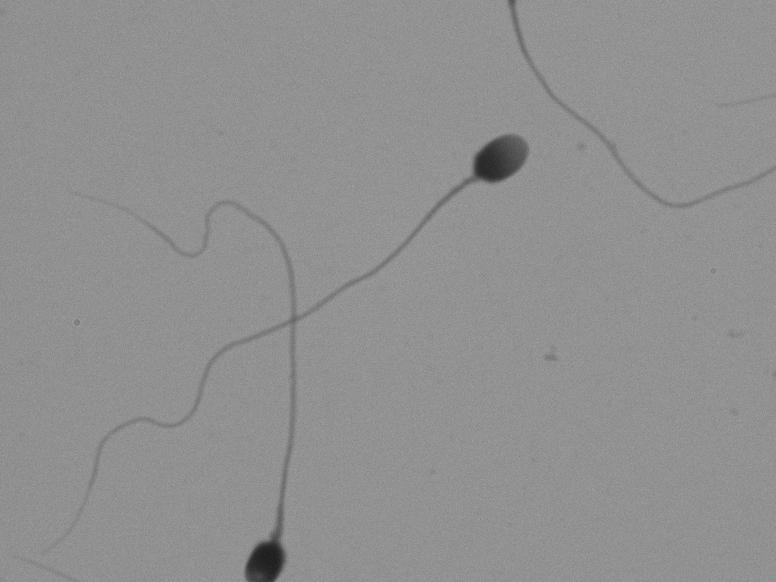Normal: (63, 102, 536, 496)
